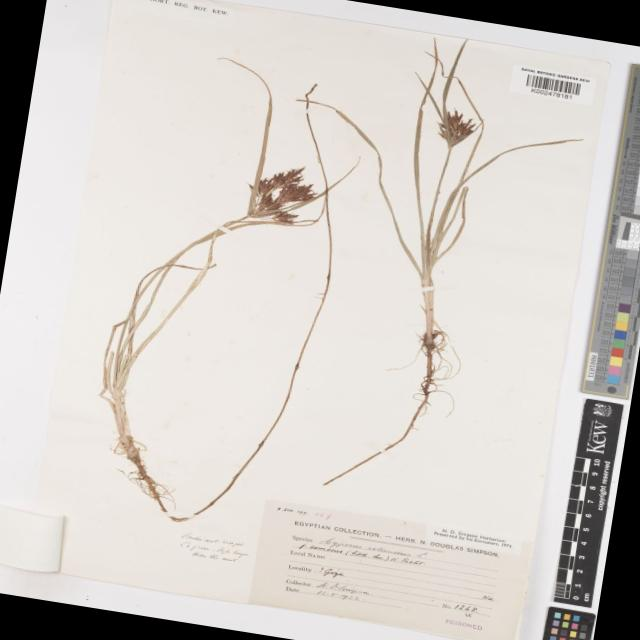cyperus: (225, 151, 341, 248), (423, 104, 486, 156)
